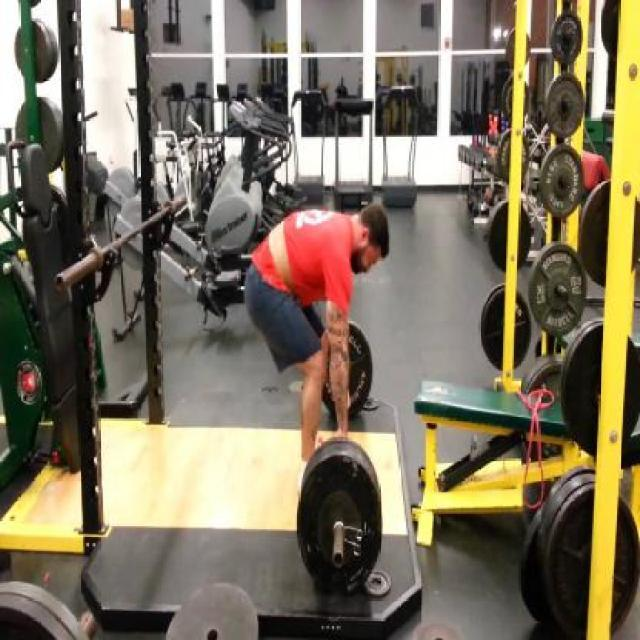barbell: (295, 434, 389, 611)
